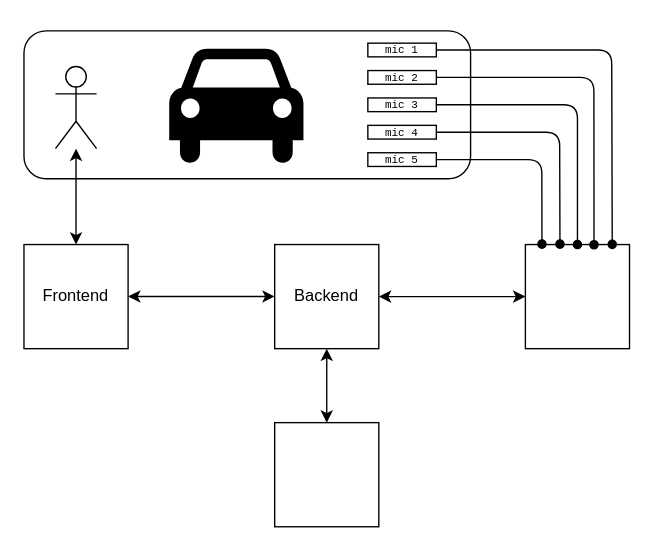
This 653x551 diagram has some shape labels left out. Here are the shapes that lost their labels. From the top down, the box of each, then its label:
(524, 243, 630, 349): Incar
(273, 421, 379, 527): GPU-Backend
